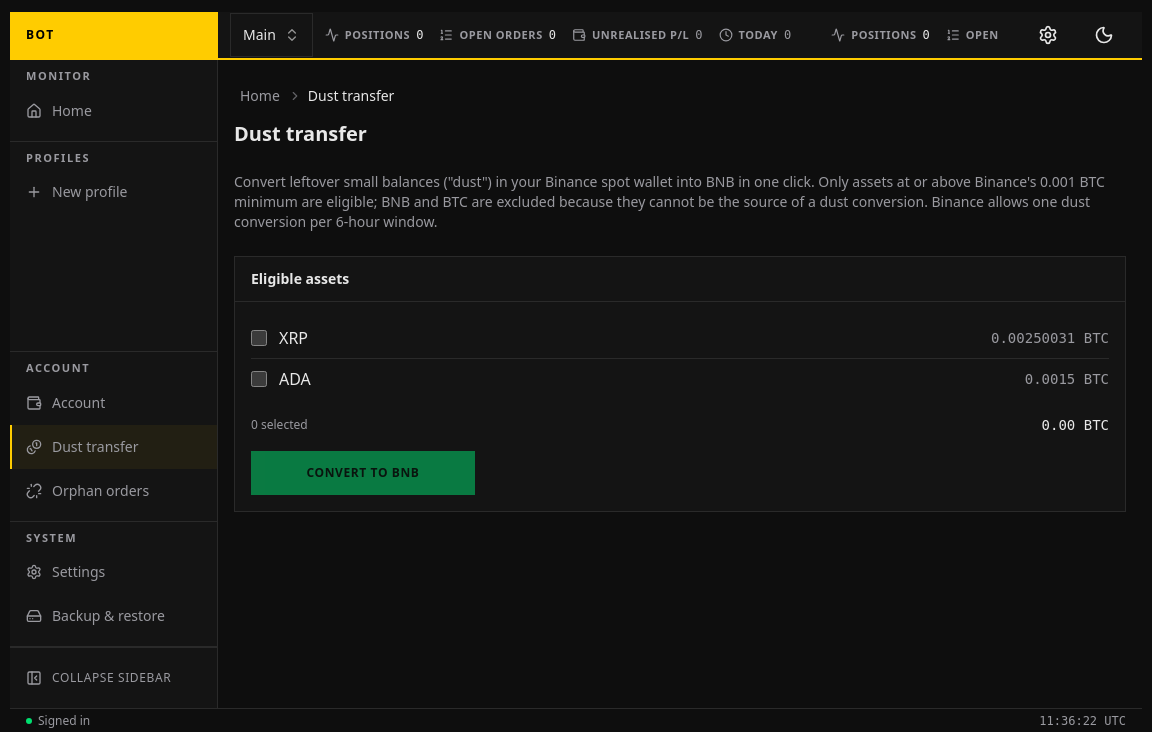
Test case: DustTransferPage › updates the running BTC preview as assets are toggled
Click the checkbox labelled "XRP". click: (259, 338)
box: [251,330,267,346]
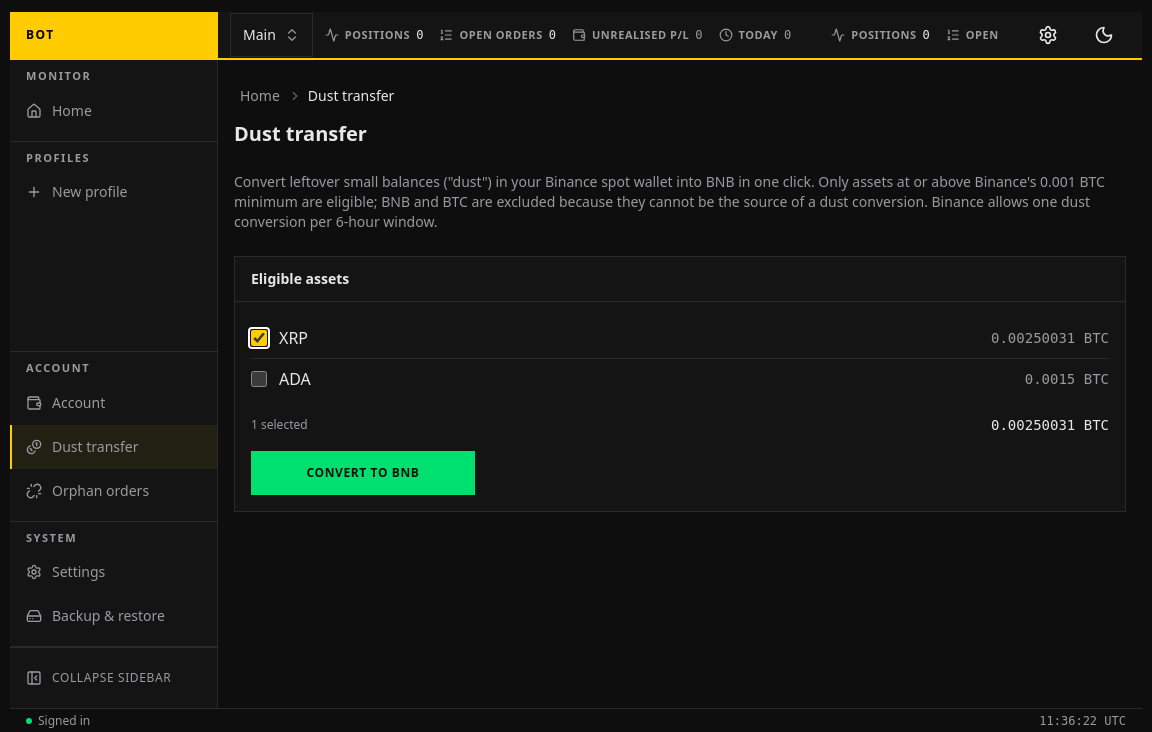
Check: the text "0.00250031 BTC" in the row of "selected" is shown, box [991,415,1109,435]
Click the checkbox labelled "ADA". click: (259, 379)
box: [251,371,267,387]
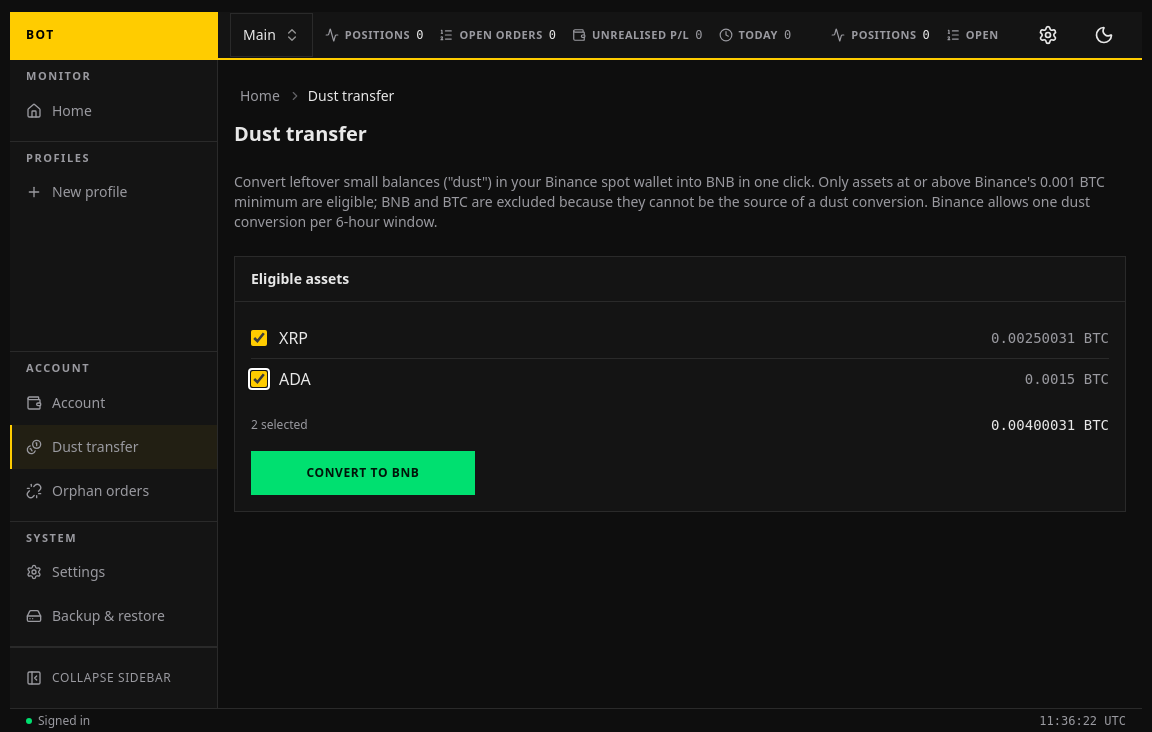
Check: the text "0.00400031 BTC" is shown, box [991,415,1109,435]
